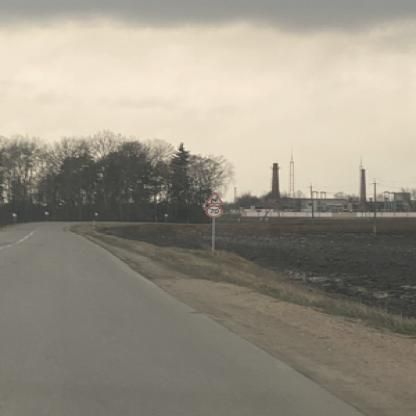speedlimit: (205, 205, 221, 216)
